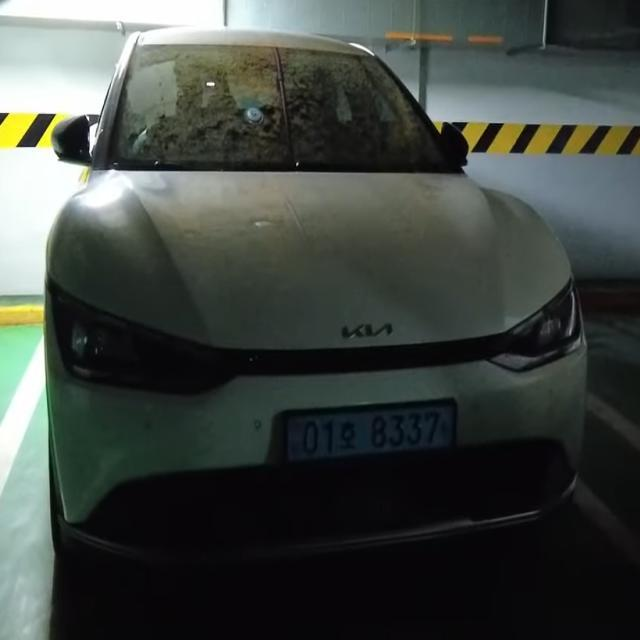car: (261, 378, 480, 487)
carev: (437, 399, 463, 459), (284, 412, 306, 472)
